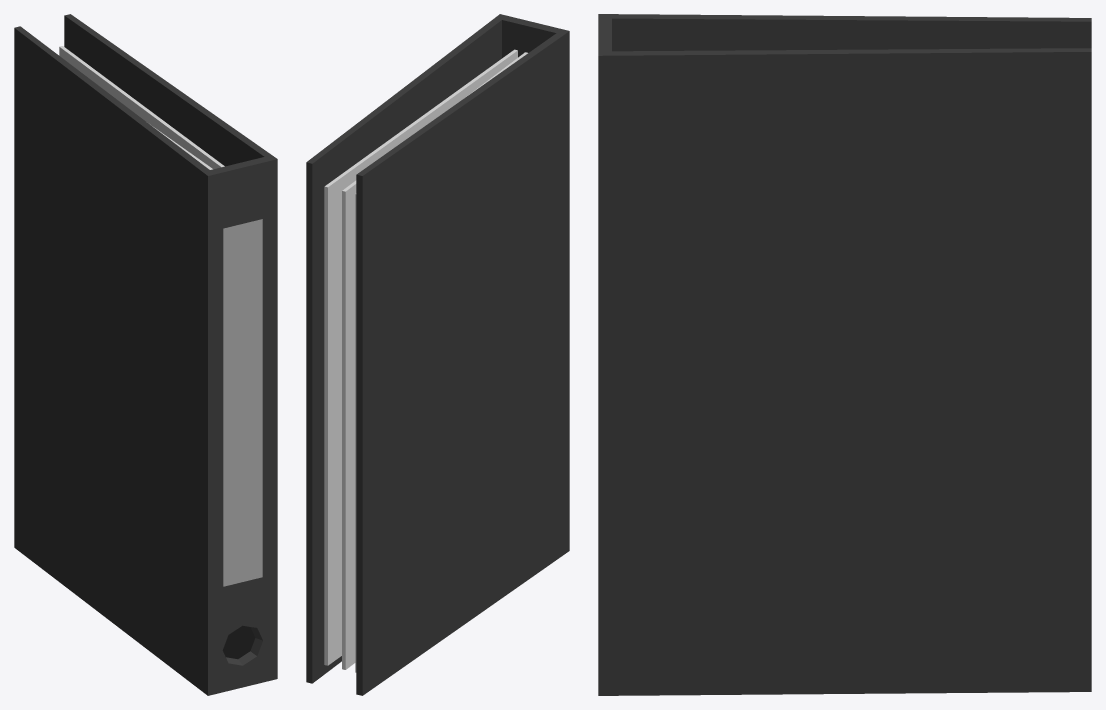
Rendered from FolderV1Black.fbx.
3 views of the same model, side by side, from view 1: azimuth 30°, elevation 25°; view 2: azimuth 150°, elevation 25°; view 3: azimuth 270°, elevation 25° (orthographic). The views are drawn at different scales.
Visible parts, largest first — view 1: FolderV1Black; view 2: FolderV1Black; view 3: FolderV1Black.
Boxes of the visible parts, box(x1,y1,x2,y2) form: FolderV1Black: box(14, 14, 277, 695); FolderV1Black: box(306, 14, 569, 695); FolderV1Black: box(598, 14, 1091, 695).
Bounding box in the file's own units: 4.8 × 34.23 × 23.92.
